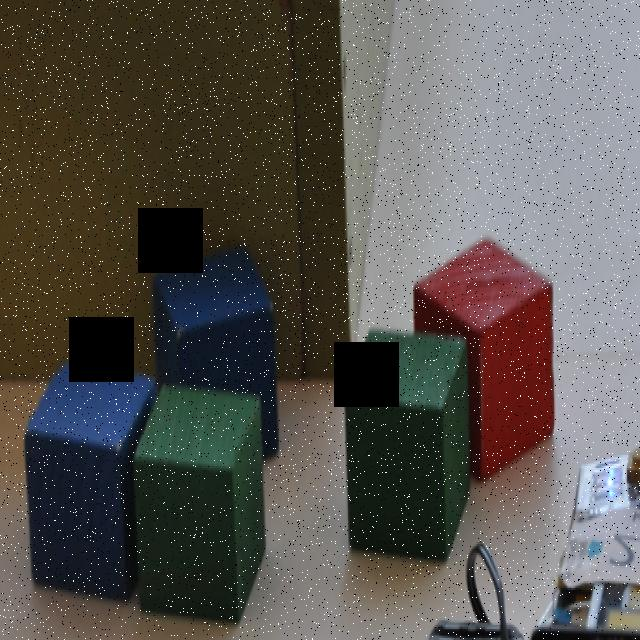bluecube: (27, 359, 155, 602), (150, 239, 280, 460)
green cube: (135, 382, 269, 625), (345, 327, 473, 564)
red cube: (412, 235, 555, 482)
